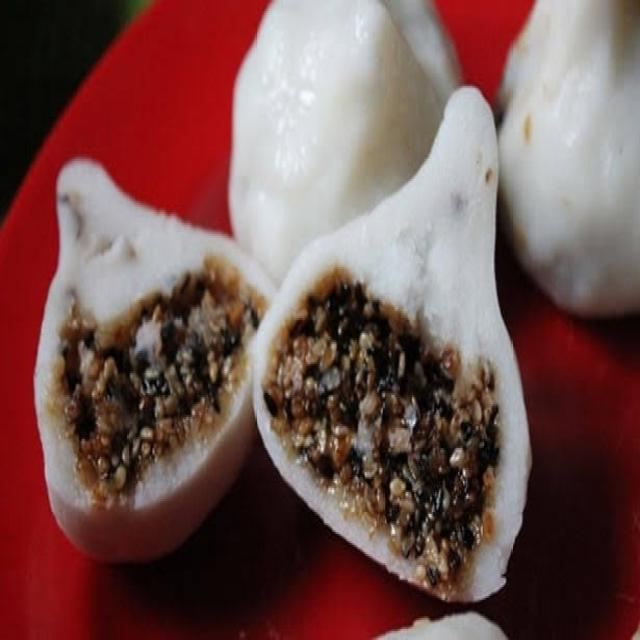poorna kolukattai: (18, 0, 640, 640)
